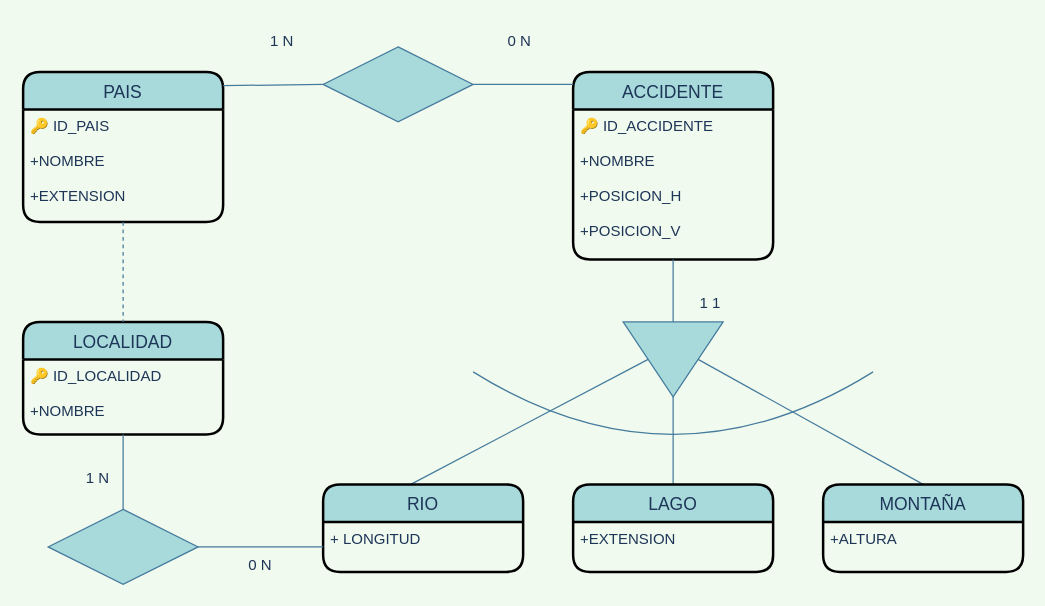
The diagram is 1045 pixels wide and 606 high, and some of its shapes have lost their labels. Each missing label, with the centre of its shape:
OCURRIR: [397,84]
PASAR: [122,546]
